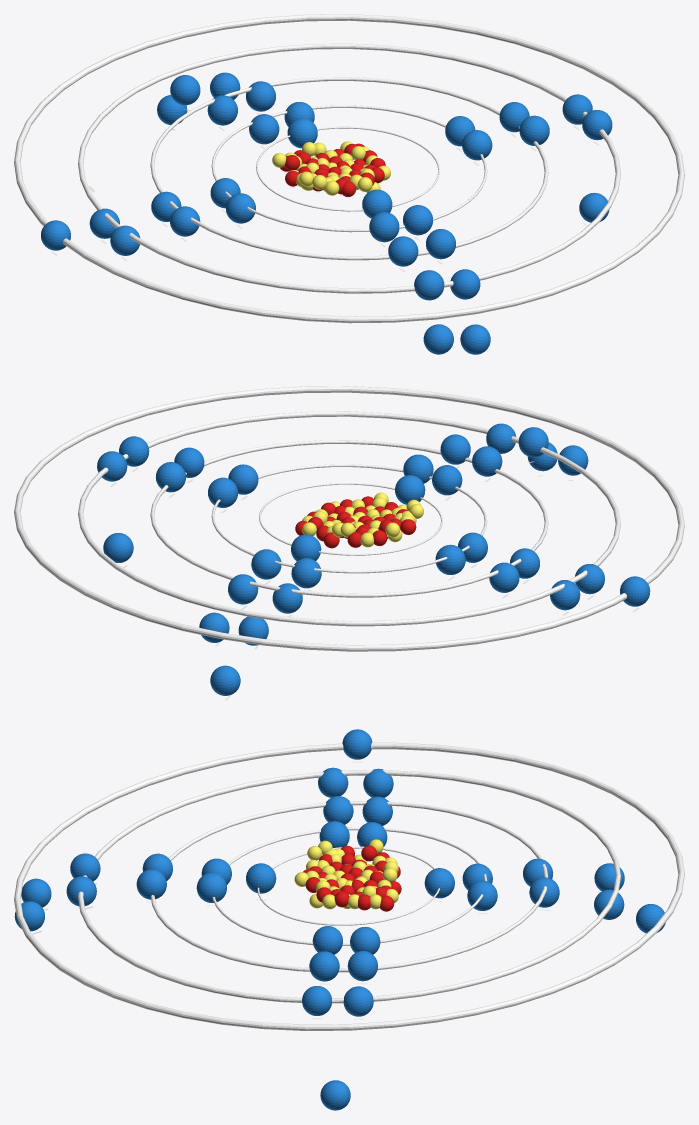
3 renders of one model, top to bottom at view 1: azimuth 30°, elevation 25°; view 2: azimuth 150°, elevation 25°; view 3: azimuth 270°, elevation 25°, orthographic.
Visible parts, largest first — view 1: Torus.005, Torus.004, Torus.003, Torus.002, Torus.001, g.021, g.022, g.027, g.030, g.006, g.014, g.007 (+23 smaller); view 2: Torus.005, Torus.004, Torus.003, Torus.002, Torus.001, g.029, g.015, g.006, g.014, g.009, g.008, g.022 (+23 smaller); view 3: Torus.005, Torus.004, Torus.003, Torus.002, Torus.001, g.028, g.013, g.025, g.001, g.012, g, g.023 (+19 smaller).
Boxes of the visible parts, box(x1,y1,x2,y2) form: Torus.005: box(14, 14, 684, 323); Torus.004: box(78, 43, 620, 293); Torus.003: box(150, 77, 548, 260); Torus.002: box(211, 105, 487, 232); Torus.001: box(256, 126, 439, 211); g.021: box(170, 75, 200, 105); g.022: box(414, 270, 444, 300); g.027: box(423, 324, 453, 354); g.030: box(460, 324, 490, 354); g.006: box(369, 212, 399, 242); g.014: box(388, 236, 418, 266); g.007: box(403, 205, 432, 235); Torus.005: box(14, 386, 684, 651); Torus.004: box(78, 411, 620, 626); Torus.003: box(150, 440, 548, 597); Torus.002: box(211, 464, 487, 573); Torus.001: box(259, 483, 442, 555); g.029: box(210, 665, 240, 695); g.015: box(440, 434, 470, 464); g.006: box(432, 465, 462, 495); g.014: box(472, 446, 502, 476); g.009: box(251, 549, 281, 579); g.008: box(291, 558, 321, 588); g.022: box(518, 427, 548, 457); Torus.005: box(14, 742, 684, 1030); Torus.004: box(78, 770, 620, 1003); Torus.003: box(150, 801, 548, 972); Torus.002: box(212, 827, 487, 945); Torus.001: box(257, 846, 439, 925); g.028: box(320, 1080, 350, 1110); g.013: box(309, 951, 339, 981); g.025: box(343, 986, 373, 1016); g.001: box(246, 863, 276, 893); g.012: box(347, 951, 377, 981); g: box(424, 868, 454, 898); g.023: box(302, 986, 331, 1015).
Bounding box in the file's own units: 22.37 × 4.97 × 21.89.
